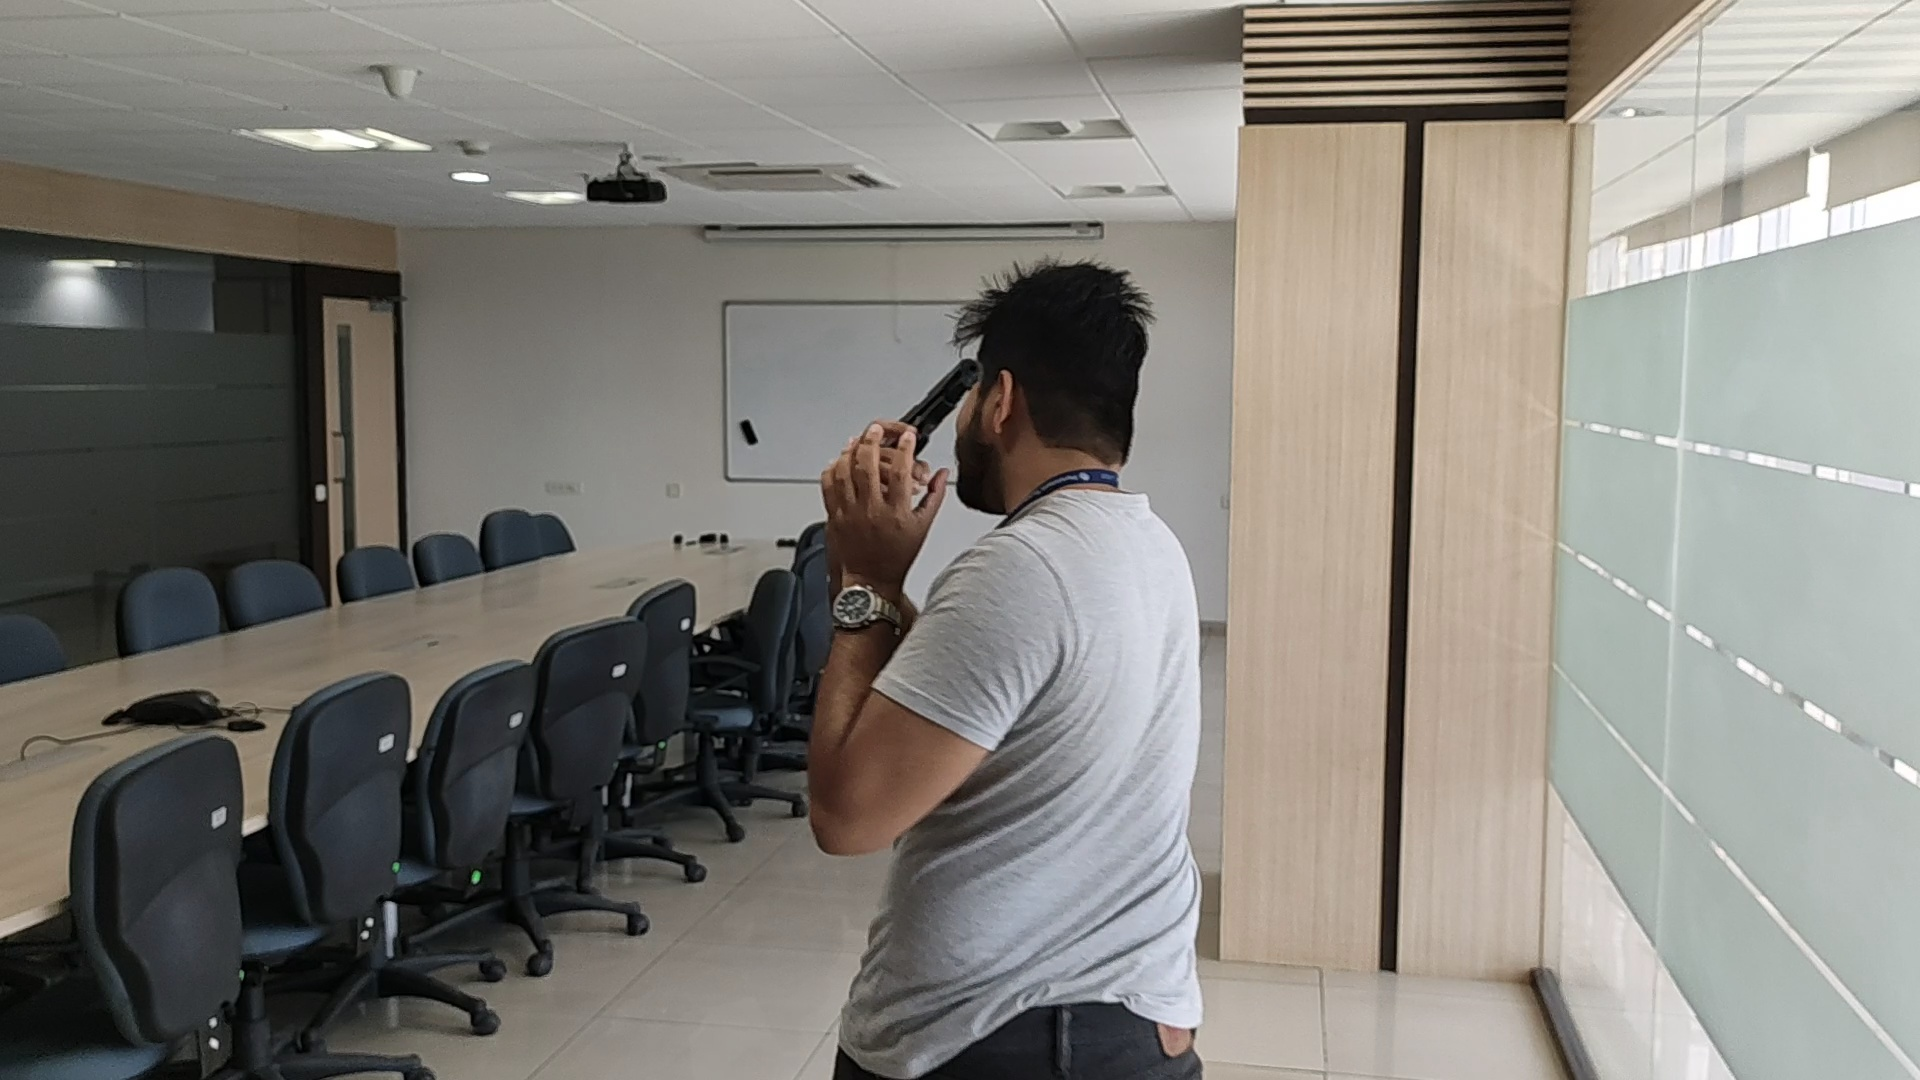gun: (897, 355, 978, 433)
